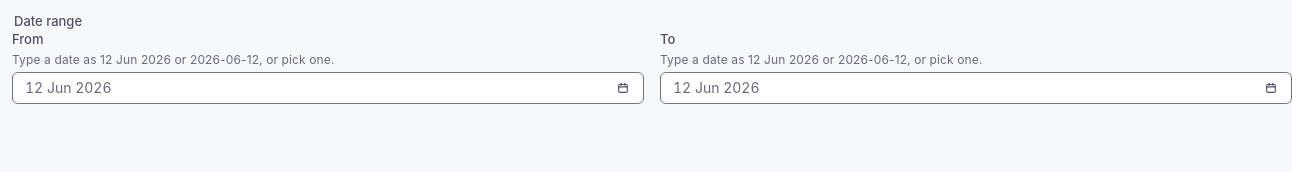
Test: DateRange › takes typed dates at either end
Type "1 Jun 2026" into the field labelled "From".
click(314, 88); type("1 Jun 2026")  # box [25, 78, 603, 98]
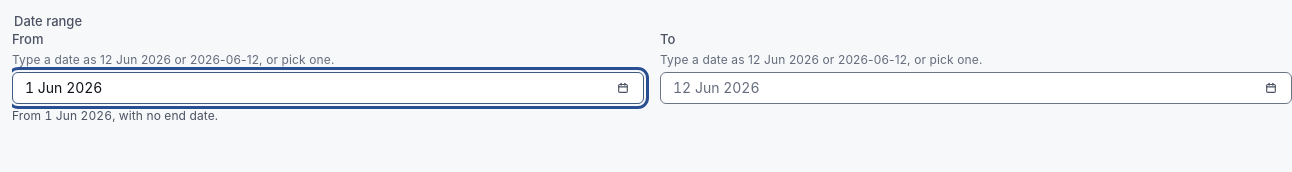
Type "30 Jun 2026" into the field labelled "To".
click(962, 88); type("30 Jun 2026")  # box [673, 78, 1251, 98]
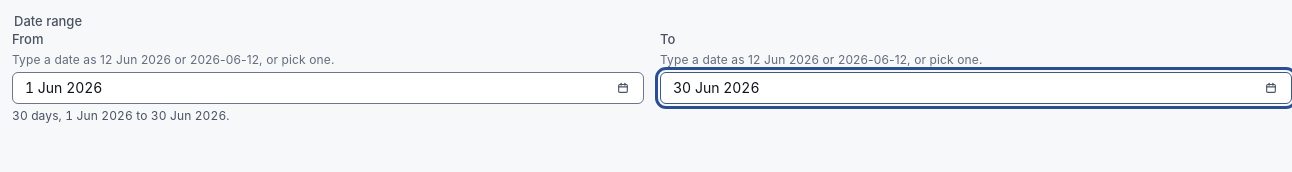
Expected: the text "30 days, 1 Jun 2026 to 30 Jun 2026." is shown, [12, 108, 230, 124]
